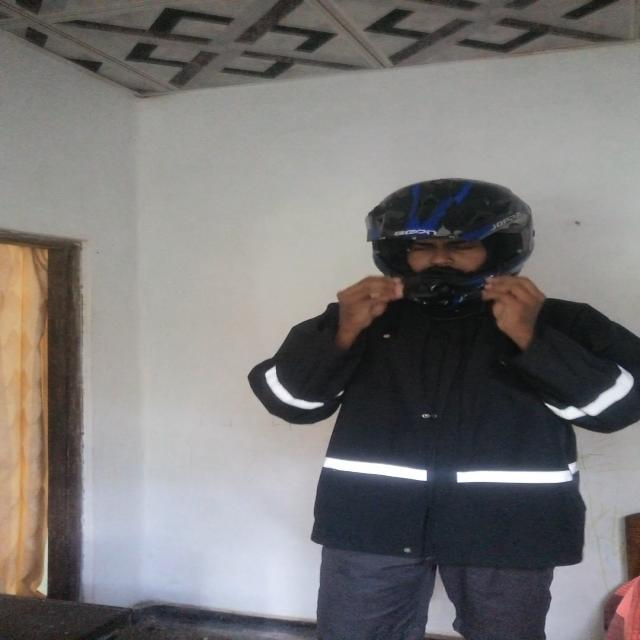Helmet_Wearer: (336, 181, 539, 300)
Jacket_Wearer: (249, 266, 640, 536)
